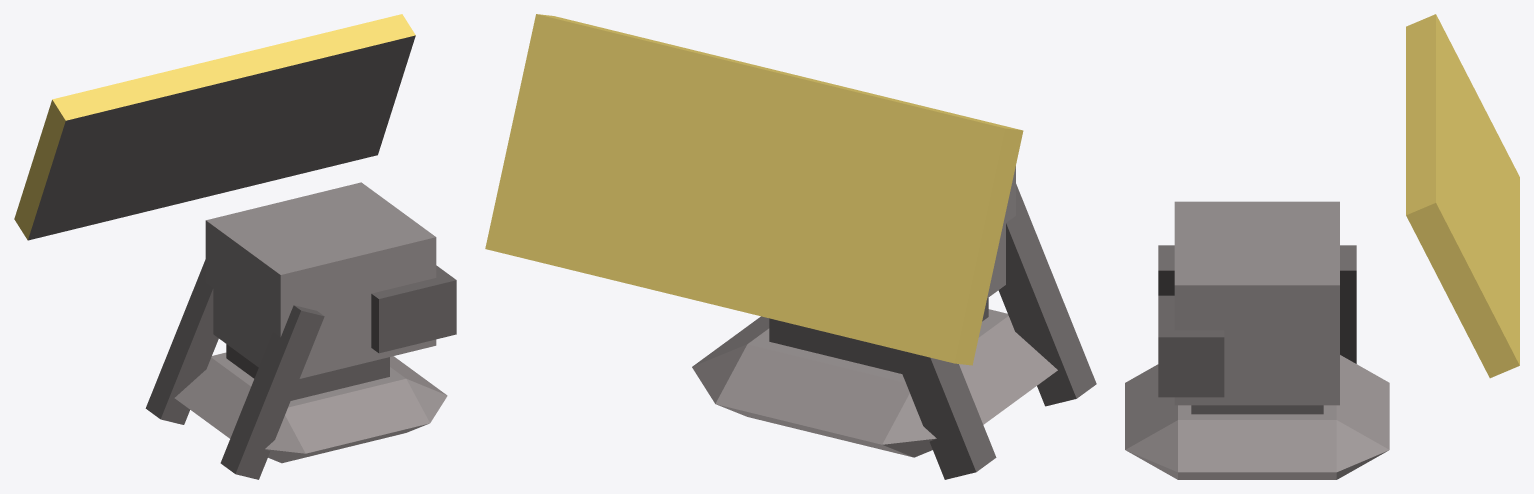
Rendered from dante_turretfbx.fbx.
3 renders of one model, left to right at view 1: azimuth 30°, elevation 25°; view 2: azimuth 150°, elevation 25°; view 3: azimuth 270°, elevation 25°, orthographic. The views are drawn at different scales.
Parts seen in each view (by area): view 1: mesh_5, mesh_2, beveled_cuboid, mesh_1, mesh_4, mesh, mesh_3; view 2: mesh_5, beveled_cuboid, mesh_1, mesh, mesh_3, mesh_2; view 3: mesh_2, mesh_5, beveled_cuboid, mesh_4, mesh, mesh_3, mesh_1.
Part boxes in pixels (left/top/right/bottom): mesh_5: left=14, top=14, right=415, bottom=240; mesh_2: left=205, top=182, right=436, bottom=378; beveled_cuboid: left=174, top=352, right=447, bottom=463; mesh_1: left=220, top=305, right=324, bottom=479; mesh_4: left=371, top=265, right=456, bottom=353; mesh: left=145, top=259, right=218, bottom=424; mesh_3: left=226, top=344, right=389, bottom=400; mesh_5: left=485, top=14, right=1023, bottom=365; beveled_cuboid: left=692, top=309, right=1057, bottom=457; mesh_1: left=998, top=184, right=1096, bottom=406; mesh: left=892, top=348, right=996, bottom=479; mesh_3: left=769, top=298, right=988, bottom=373; mesh_2: left=987, top=166, right=1015, bottom=298; mesh_2: left=1174, top=201, right=1339, bottom=405; mesh_5: left=1406, top=14, right=1519, bottom=378; beveled_cuboid: left=1125, top=355, right=1389, bottom=479; mesh_4: left=1158, top=295, right=1224, bottom=397; mesh: left=1340, top=245, right=1356, bottom=363; mesh_3: left=1191, top=405, right=1323, bottom=414; mesh_1: left=1158, top=245, right=1174, bottom=295.
Size of the model in its own units: 42.19 by 35.5 by 37.29.
1 material, 1 textured.
